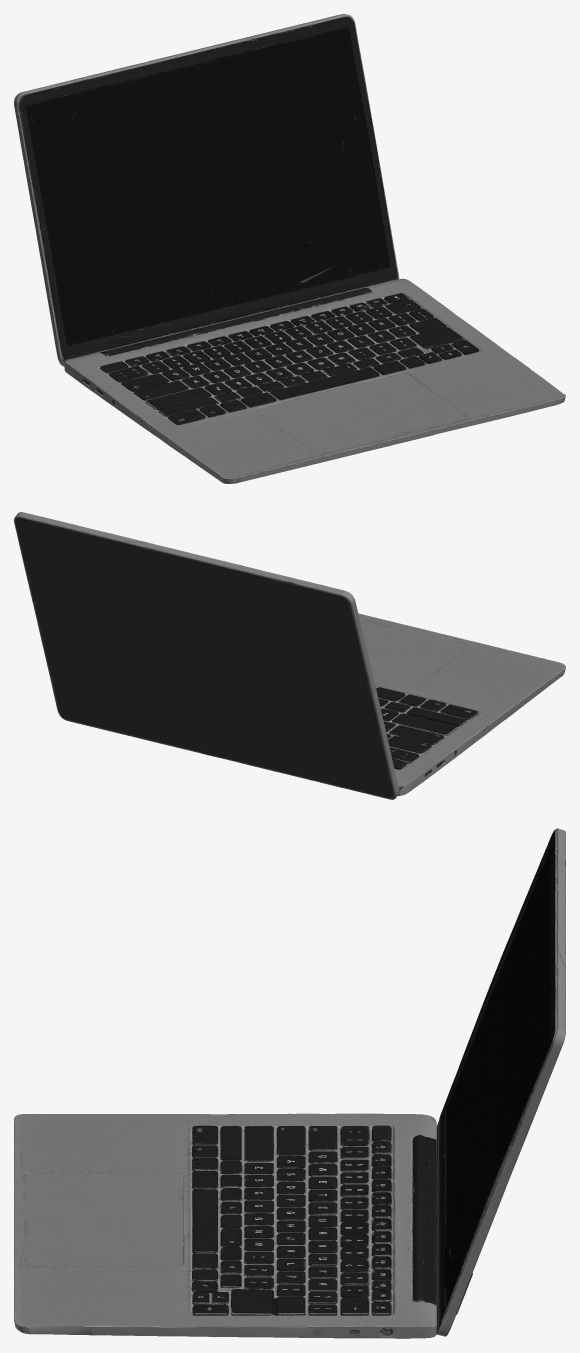
The model's file is original-laptop.glb.
3 views of the same model, one above another, from view 1: azimuth 30°, elevation 25°; view 2: azimuth 150°, elevation 25°; view 3: azimuth 270°, elevation 25° (orthographic). The views are drawn at different scales.
Parts seen in each view (by area): view 1: Mesh_0; view 2: Mesh_0; view 3: Mesh_0.
Boxes of the visible parts, x1,y1,x2,y2 form: Mesh_0: (14,14,565,483); Mesh_0: (14,512,565,799); Mesh_0: (14,828,565,1338).
Bounding box in the file's own units: 1.74 × 1.17 × 1.9.
1 material, 1 textured.
